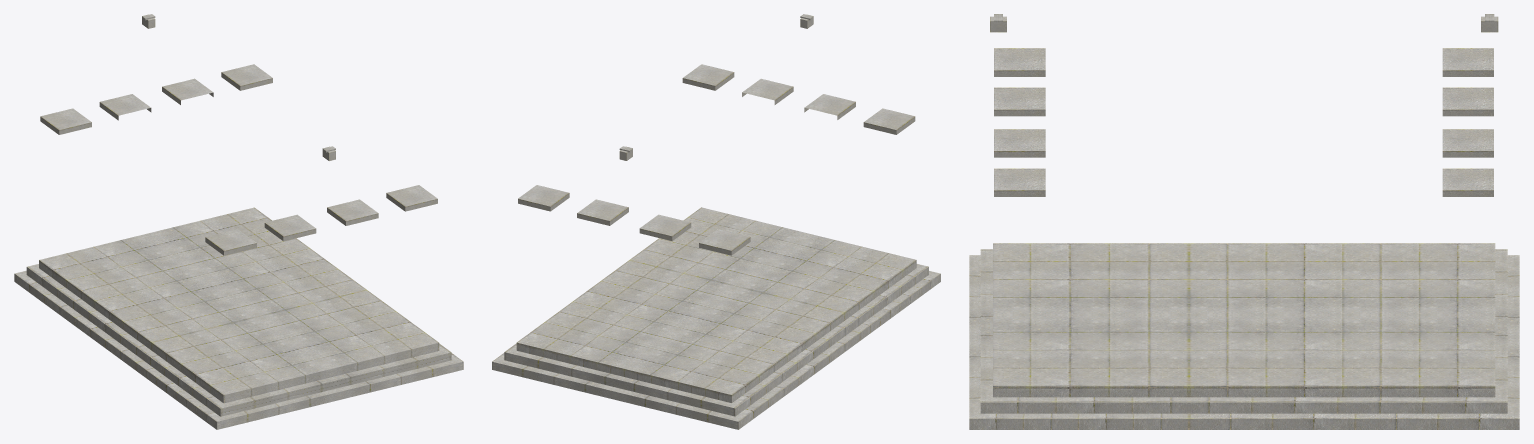
File: hele_temple_c_base.dae
3 views of the same model, side by side, from view 1: azimuth 30°, elevation 25°; view 2: azimuth 150°, elevation 25°; view 3: azimuth 270°, elevation 25° (orthographic). The views are drawn at different scales.
Visible parts, largest first — view 1: Tiles; view 2: Tiles; view 3: Tiles.
Boxes of the visible parts, x1=… form: Tiles: x1=14, y1=14, x2=463, y2=429; Tiles: x1=492, y1=14, x2=940, y2=429; Tiles: x1=969, y1=14, x2=1519, y2=429.
Size of the model in its own units: 16.85 by 15.89 by 23.97.
